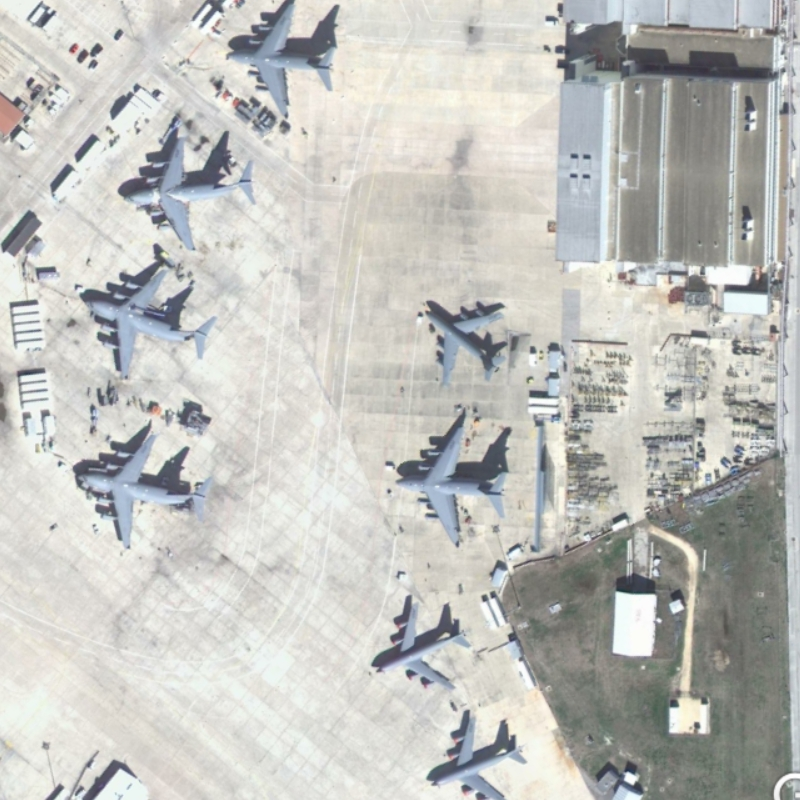A14: (366, 589, 473, 696), (421, 704, 531, 799), (413, 300, 516, 387)
A3: (71, 417, 217, 550), (120, 126, 262, 257), (75, 262, 218, 386), (389, 414, 516, 553), (215, 1, 343, 125)
